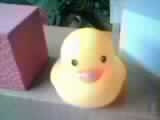duck: (39, 20, 132, 106)
